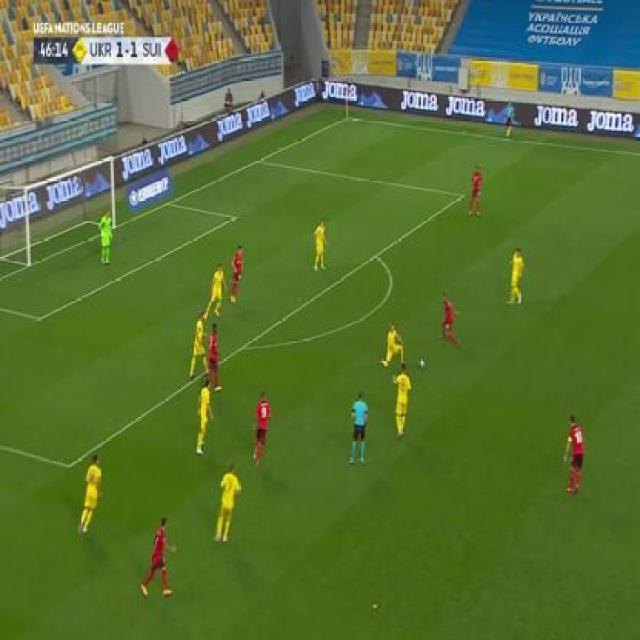ball: (419, 356, 425, 369)
player: (140, 515, 179, 600), (214, 461, 242, 543), (78, 453, 104, 535), (561, 412, 586, 495), (194, 378, 216, 457), (348, 388, 370, 467), (251, 389, 273, 468), (393, 359, 412, 439), (378, 320, 406, 374), (202, 263, 227, 322), (188, 310, 208, 378), (438, 291, 460, 348), (207, 320, 223, 396), (506, 246, 526, 305), (228, 244, 244, 306), (467, 163, 484, 217), (98, 208, 114, 265), (312, 217, 328, 273), (502, 99, 516, 139)
